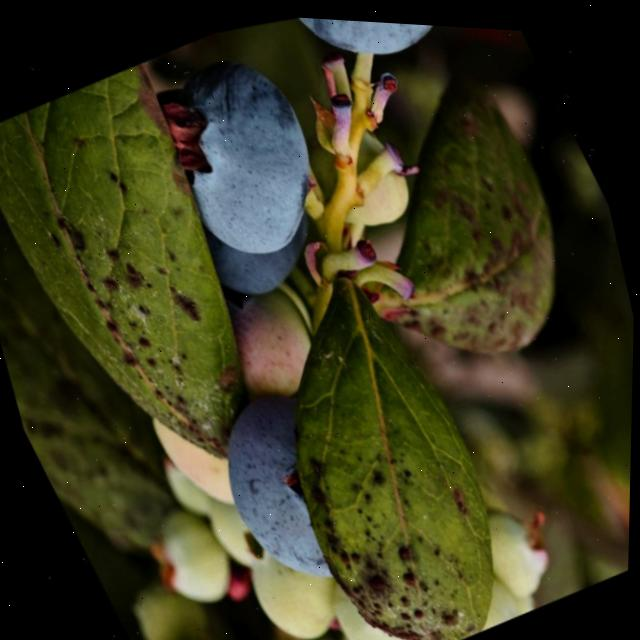RipeBlueBerry: (134, 29, 352, 278), (287, 13, 467, 86)
